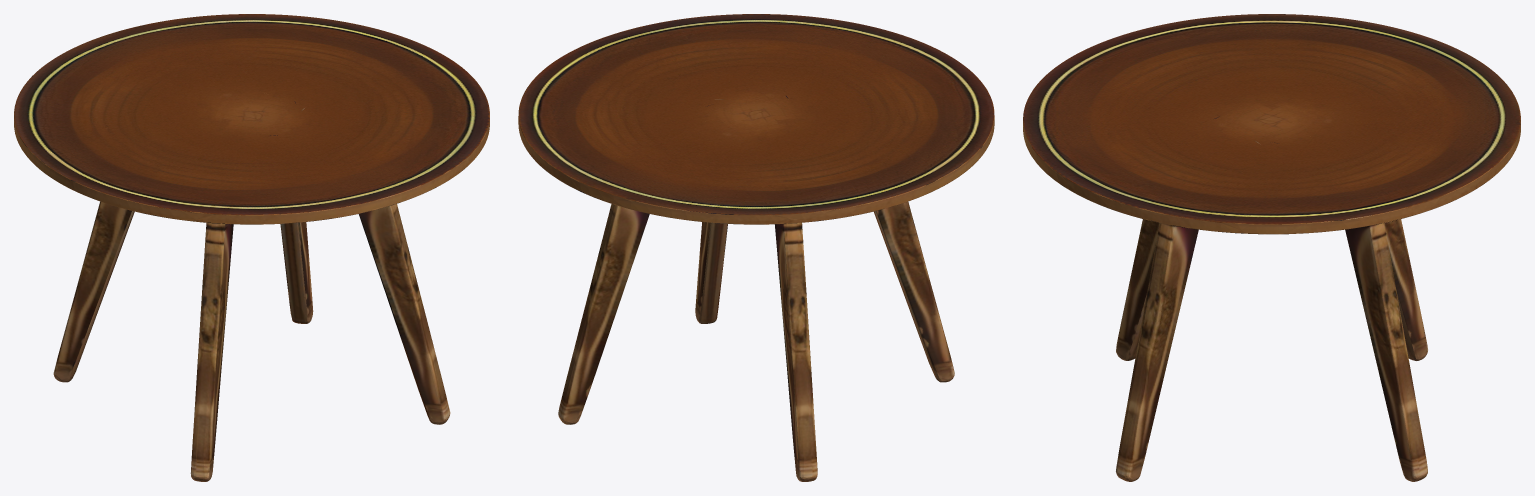
Rendered from edited_mesh.glb.
3 views of the same model, side by side, from view 1: azimuth 30°, elevation 25°; view 2: azimuth 150°, elevation 25°; view 3: azimuth 270°, elevation 25° (orthographic). The views are drawn at different scales.
Visible parts, largest first — view 1: solid_001_wire; view 2: solid_001_wire; view 3: solid_001_wire.
Part boxes in pixels (x1,y1,x2,y2): solid_001_wire: (14, 14, 489, 481); solid_001_wire: (518, 14, 994, 481); solid_001_wire: (1023, 14, 1520, 481).
Size of the model in its own units: 1.72 by 1.14 by 1.72.
Materials: 1 (1 with a texture image).
